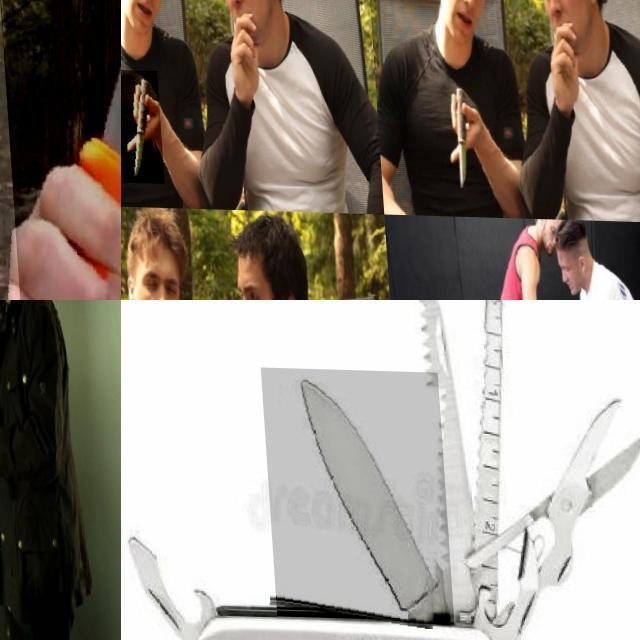-: (258, 367, 448, 622), (0, 0, 121, 300), (436, 78, 478, 191), (121, 69, 160, 183)
gun-knife-thesis - v11 Yolov5 augmented: (0, 373, 33, 488)
